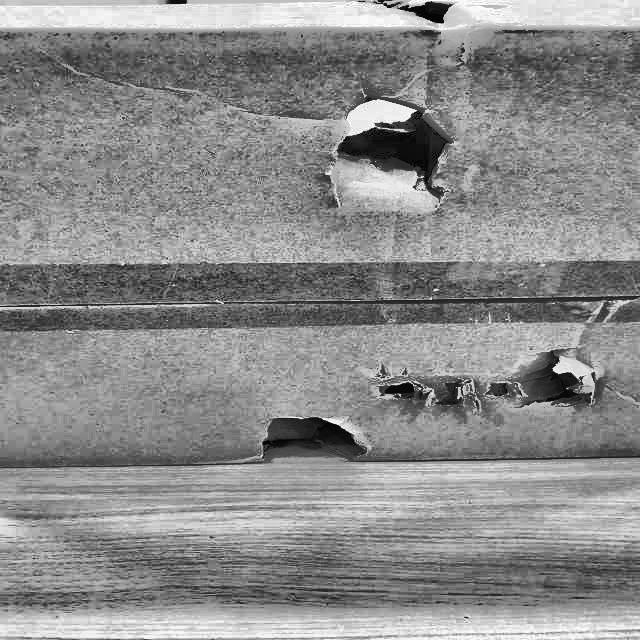box: (0, 4, 640, 469)
hole: (322, 90, 460, 196), (249, 403, 373, 469), (511, 341, 605, 415), (366, 376, 420, 409)
